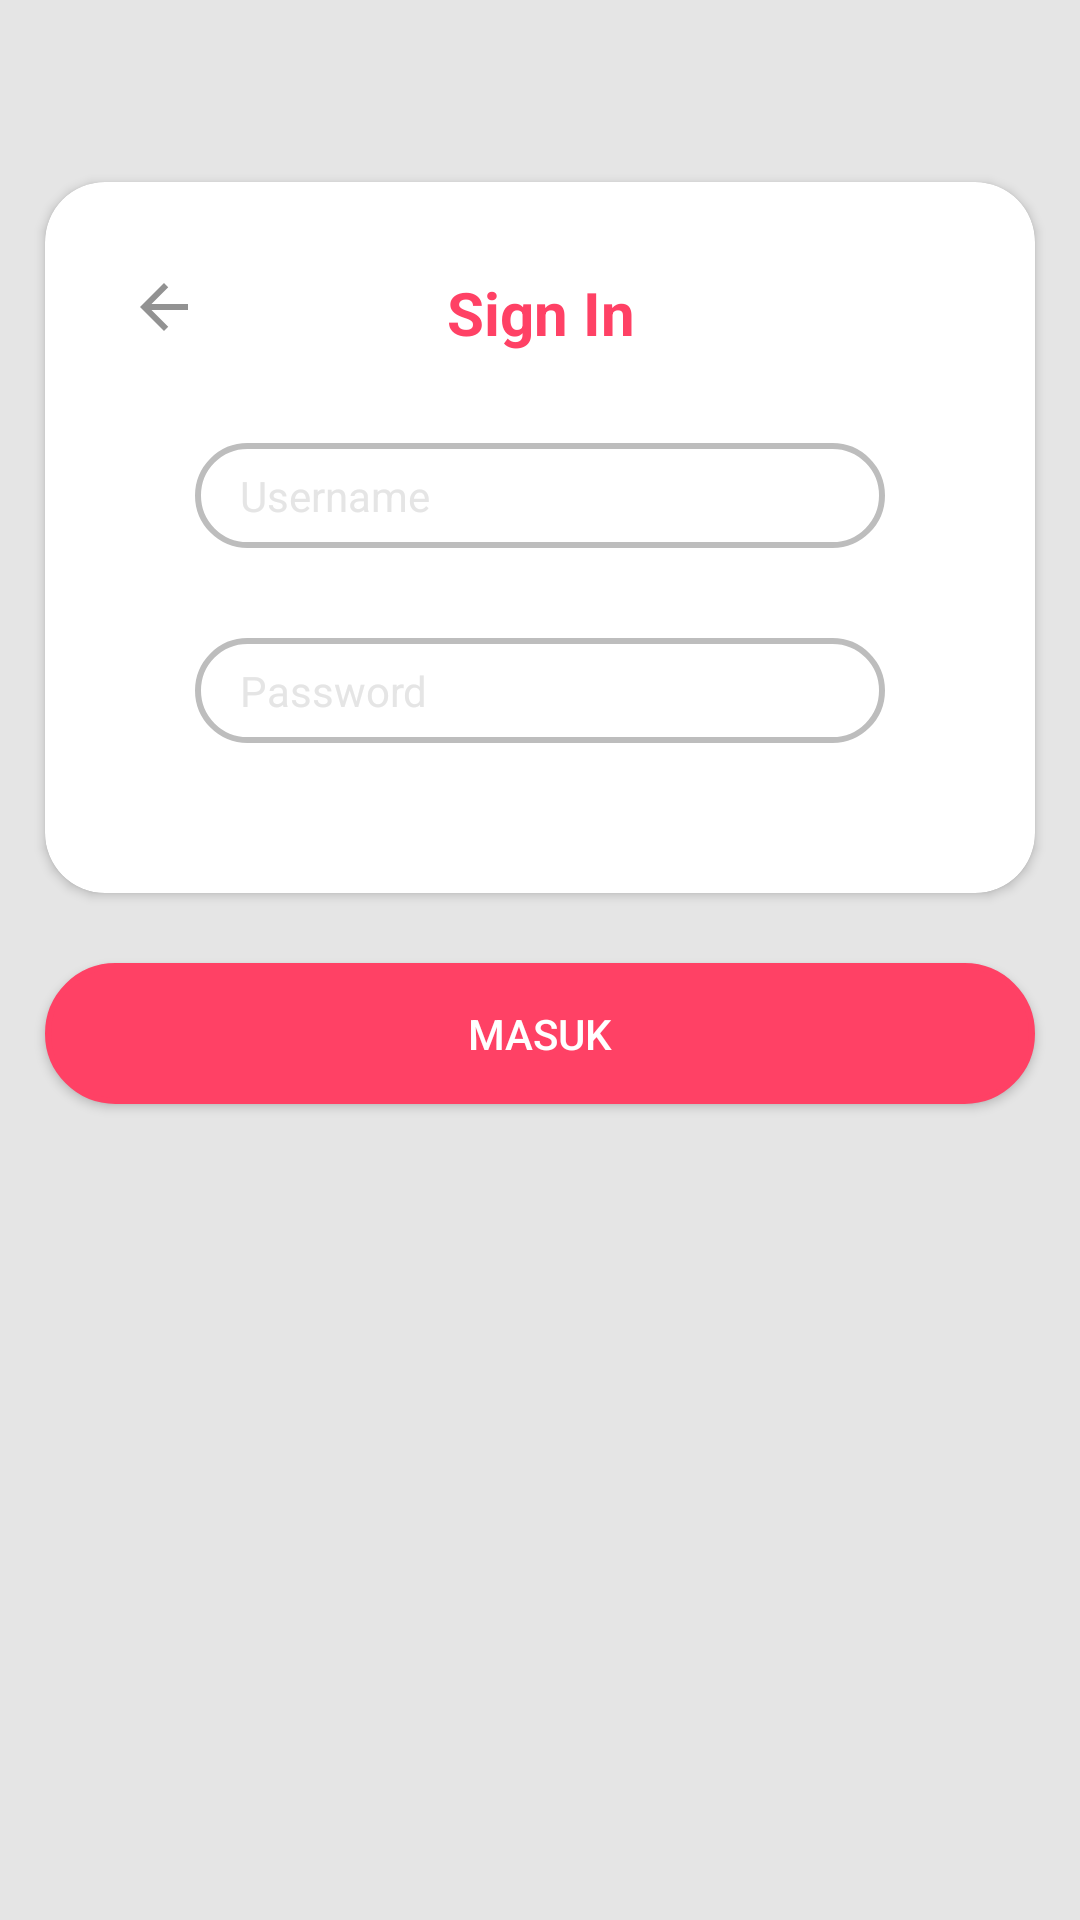

Icons on this 1080*1920 Android screen, each with its box as bbox=(x1, y1, x2, y2):
back: bbox=(140, 283, 188, 331)
